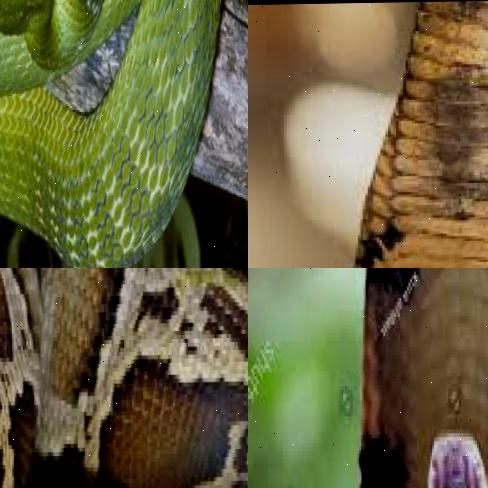1: (337, 0, 488, 268), (350, 268, 488, 488)
4: (0, 0, 248, 268)
snake: (0, 268, 248, 488)
